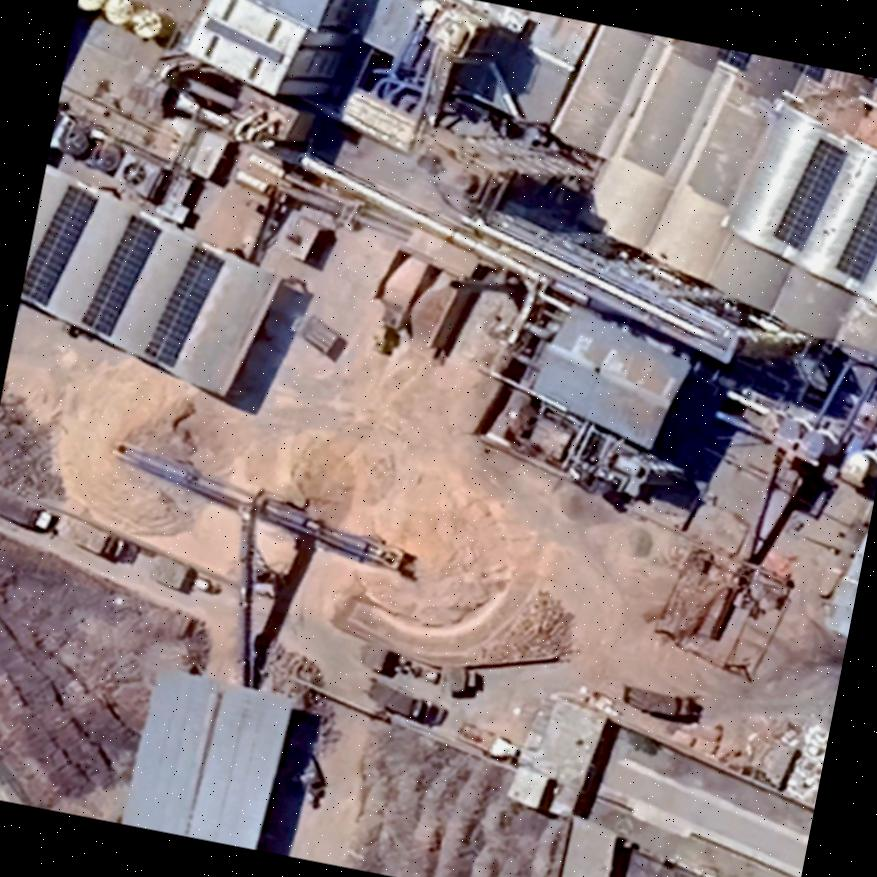Solarpanel: (70, 208, 167, 345), (139, 237, 232, 376), (21, 173, 104, 313), (765, 131, 854, 253), (829, 168, 877, 291)
